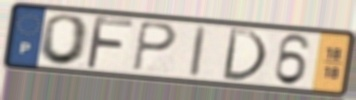6: (272, 32, 312, 87)
D: (219, 26, 269, 83)
F: (83, 14, 136, 71)
I: (188, 24, 209, 79)
O: (37, 13, 93, 67)
P: (131, 19, 179, 73)
